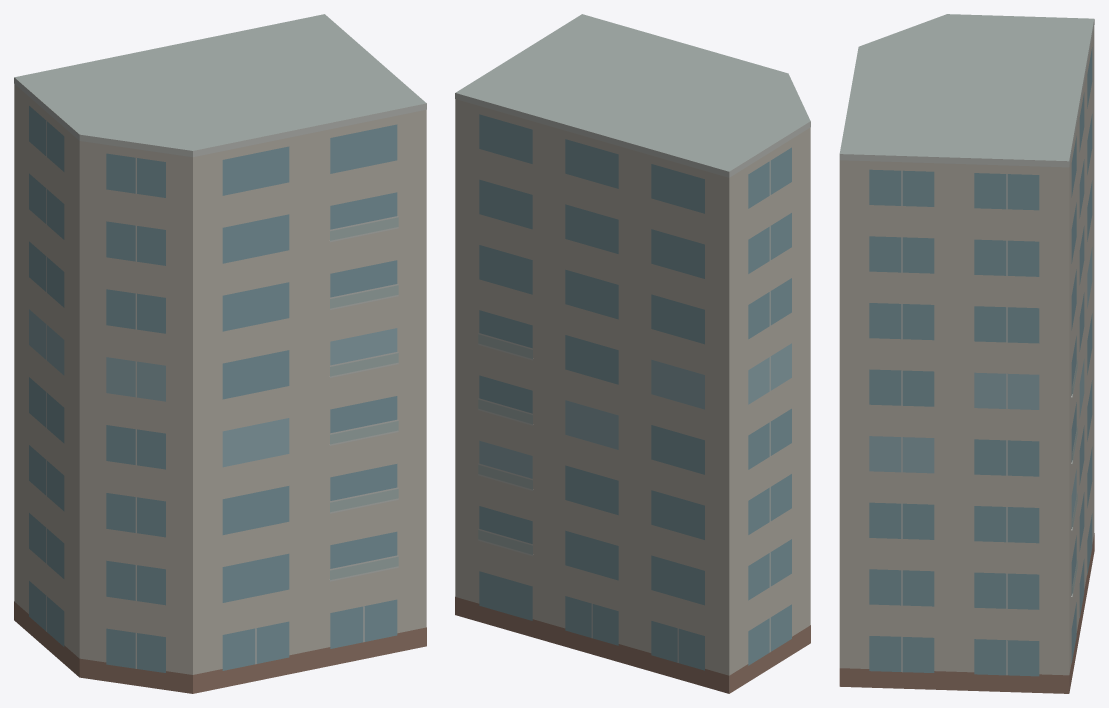
Rendered from survey-upis-32560579.glb.
The picture shows the model from 3 angles, left to right: view 1: azimuth 30°, elevation 25°; view 2: azimuth 150°, elevation 25°; view 3: azimuth 270°, elevation 25°; orthographic projection. The views are drawn at different scales.
Visible parts, largest first — view 1: survey-upis-32560579.tmp; view 2: survey-upis-32560579.tmp; view 3: survey-upis-32560579.tmp.
Boxes of the visible parts, x1=… form: survey-upis-32560579.tmp: x1=14, y1=14, x2=426, y2=693; survey-upis-32560579.tmp: x1=455, y1=14, x2=810, y2=693; survey-upis-32560579.tmp: x1=839, y1=14, x2=1094, y2=693.
Bounding box in the file's own units: 12.45 × 21 × 9.11.
